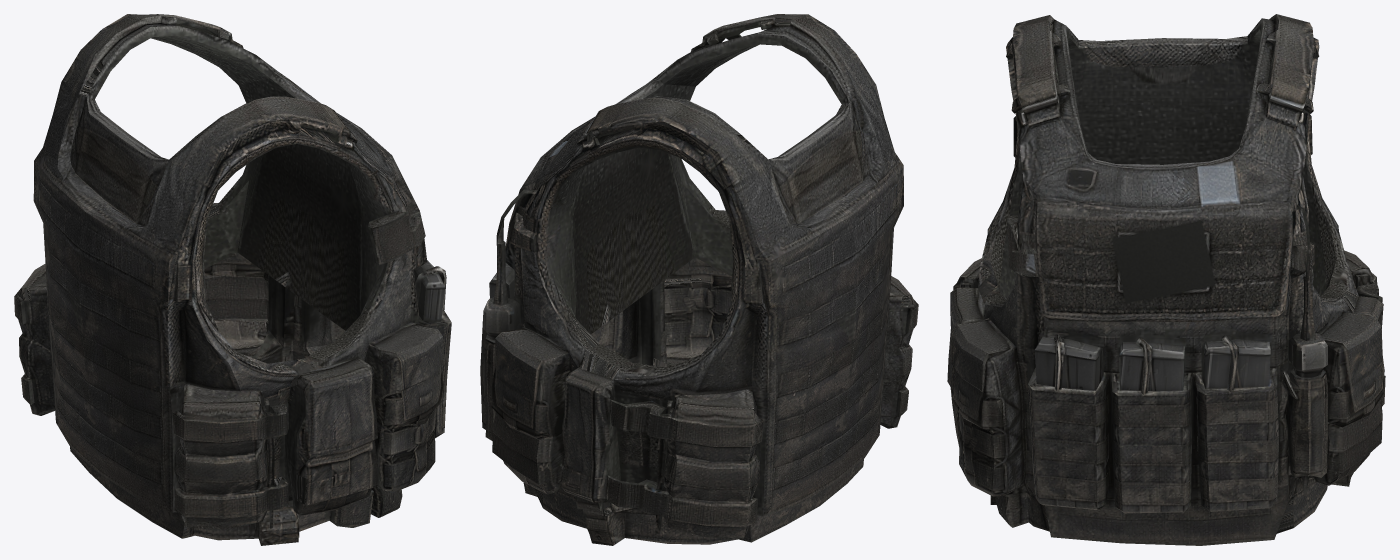
File: vest_pc.glb
3 views of the same model, side by side, from view 1: azimuth 30°, elevation 25°; view 2: azimuth 150°, elevation 25°; view 3: azimuth 270°, elevation 25° (orthographic). The views are drawn at different scales.
Visible parts, largest first — view 1: prop; view 2: prop; view 3: prop.
Boxes of the visible parts, x1,y1,x2,y2 form: prop: (14,14,451,545); prop: (480,14,918,545); prop: (947,14,1385,545).
Size of the model in its own units: 0.8043 by 1 by 0.8943.
Materials: 1 (1 with a texture image).
